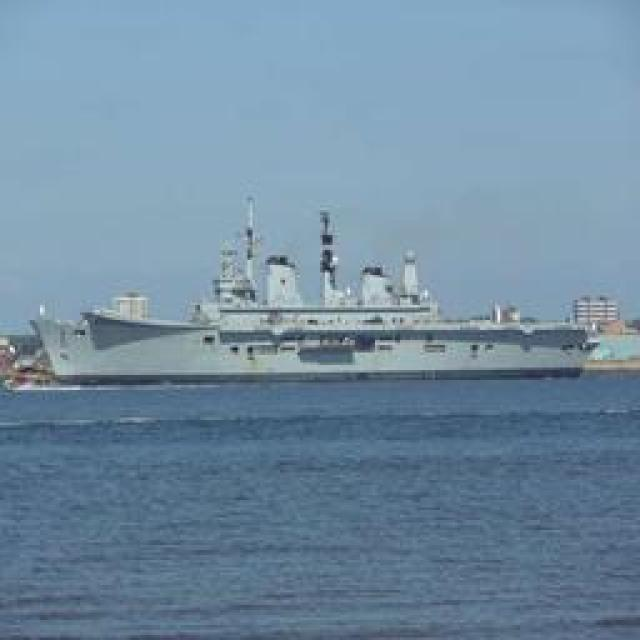CIV_Ship: (32, 190, 602, 385)
